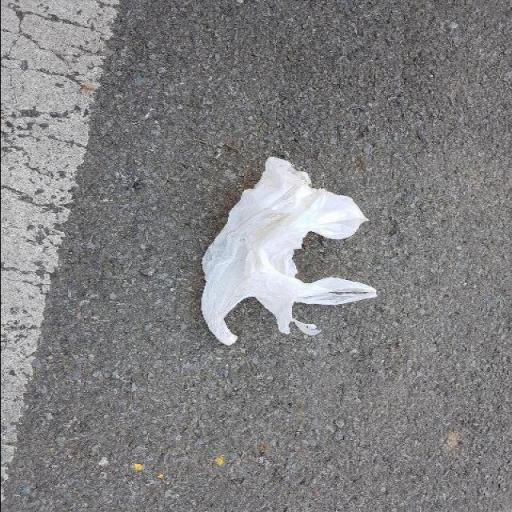plastic-bag: (198, 152, 379, 345)
